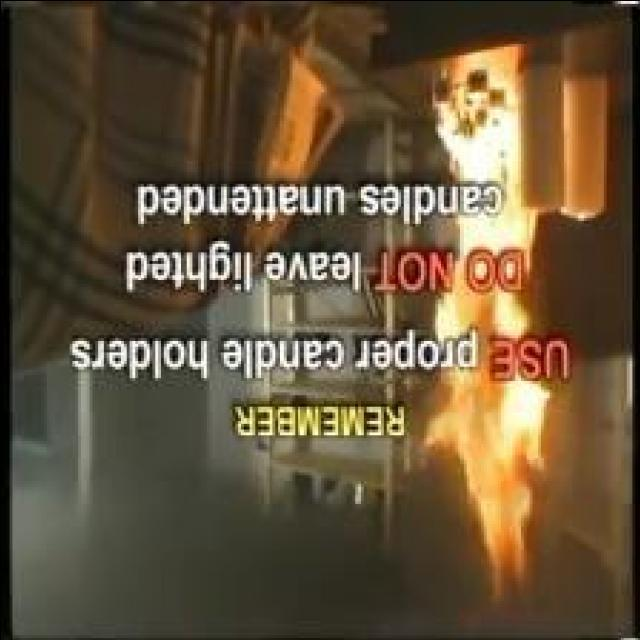Fire: (424, 70, 547, 596)
